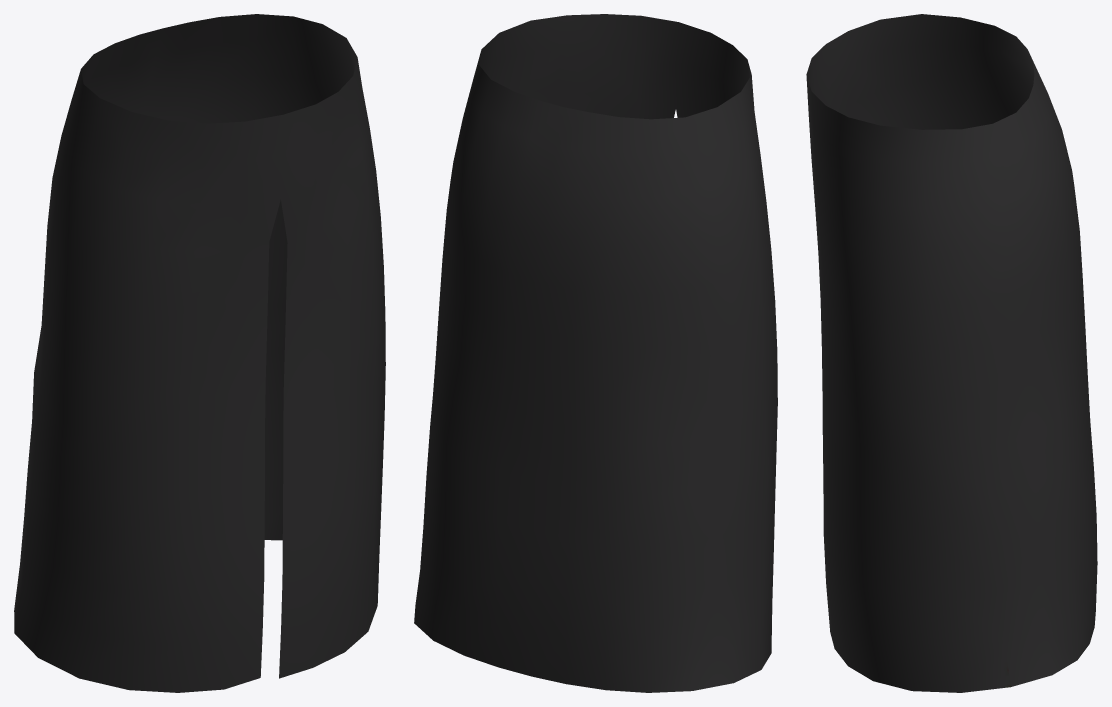
The model's file is clo_pg_spearman_armor_03.fbx.
3 renders of one model, left to right at view 1: azimuth 30°, elevation 25°; view 2: azimuth 150°, elevation 25°; view 3: azimuth 270°, elevation 25°, orthographic. The views are drawn at different scales.
Visible parts, largest first — view 1: clo_pg_spearman_armor_03; view 2: clo_pg_spearman_armor_03; view 3: clo_pg_spearman_armor_03.
Boxes of the visible parts, <box> form: clo_pg_spearman_armor_03: <box>14,14,385,692</box>; clo_pg_spearman_armor_03: <box>414,14,777,692</box>; clo_pg_spearman_armor_03: <box>806,14,1097,692</box>.
Size of the model in its own units: 0.3866 by 0.3073 by 0.648.
1 material, 1 textured.
